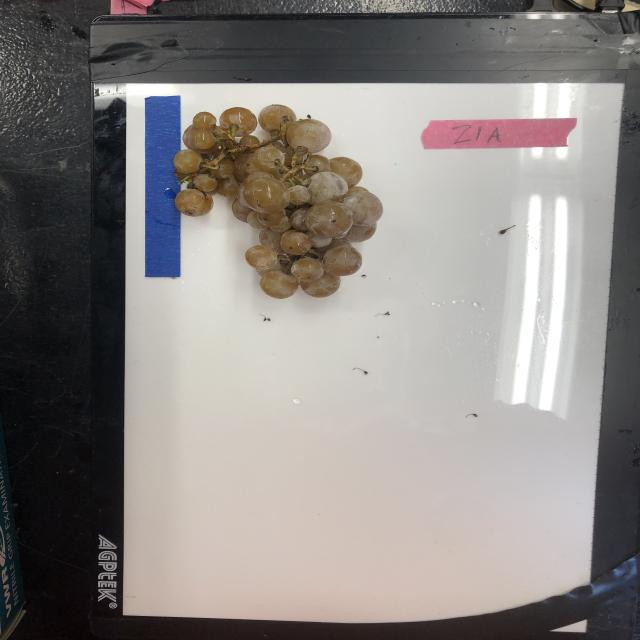grape_cluster: (168, 102, 384, 300)
index: (415, 116, 581, 152)
measure_label: (142, 92, 183, 281)
